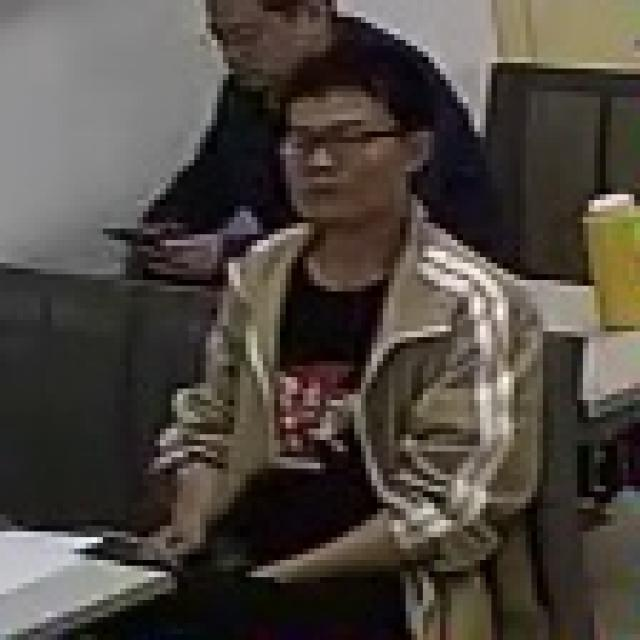listen: (254, 67, 581, 592)
phone: (132, 0, 298, 304)
